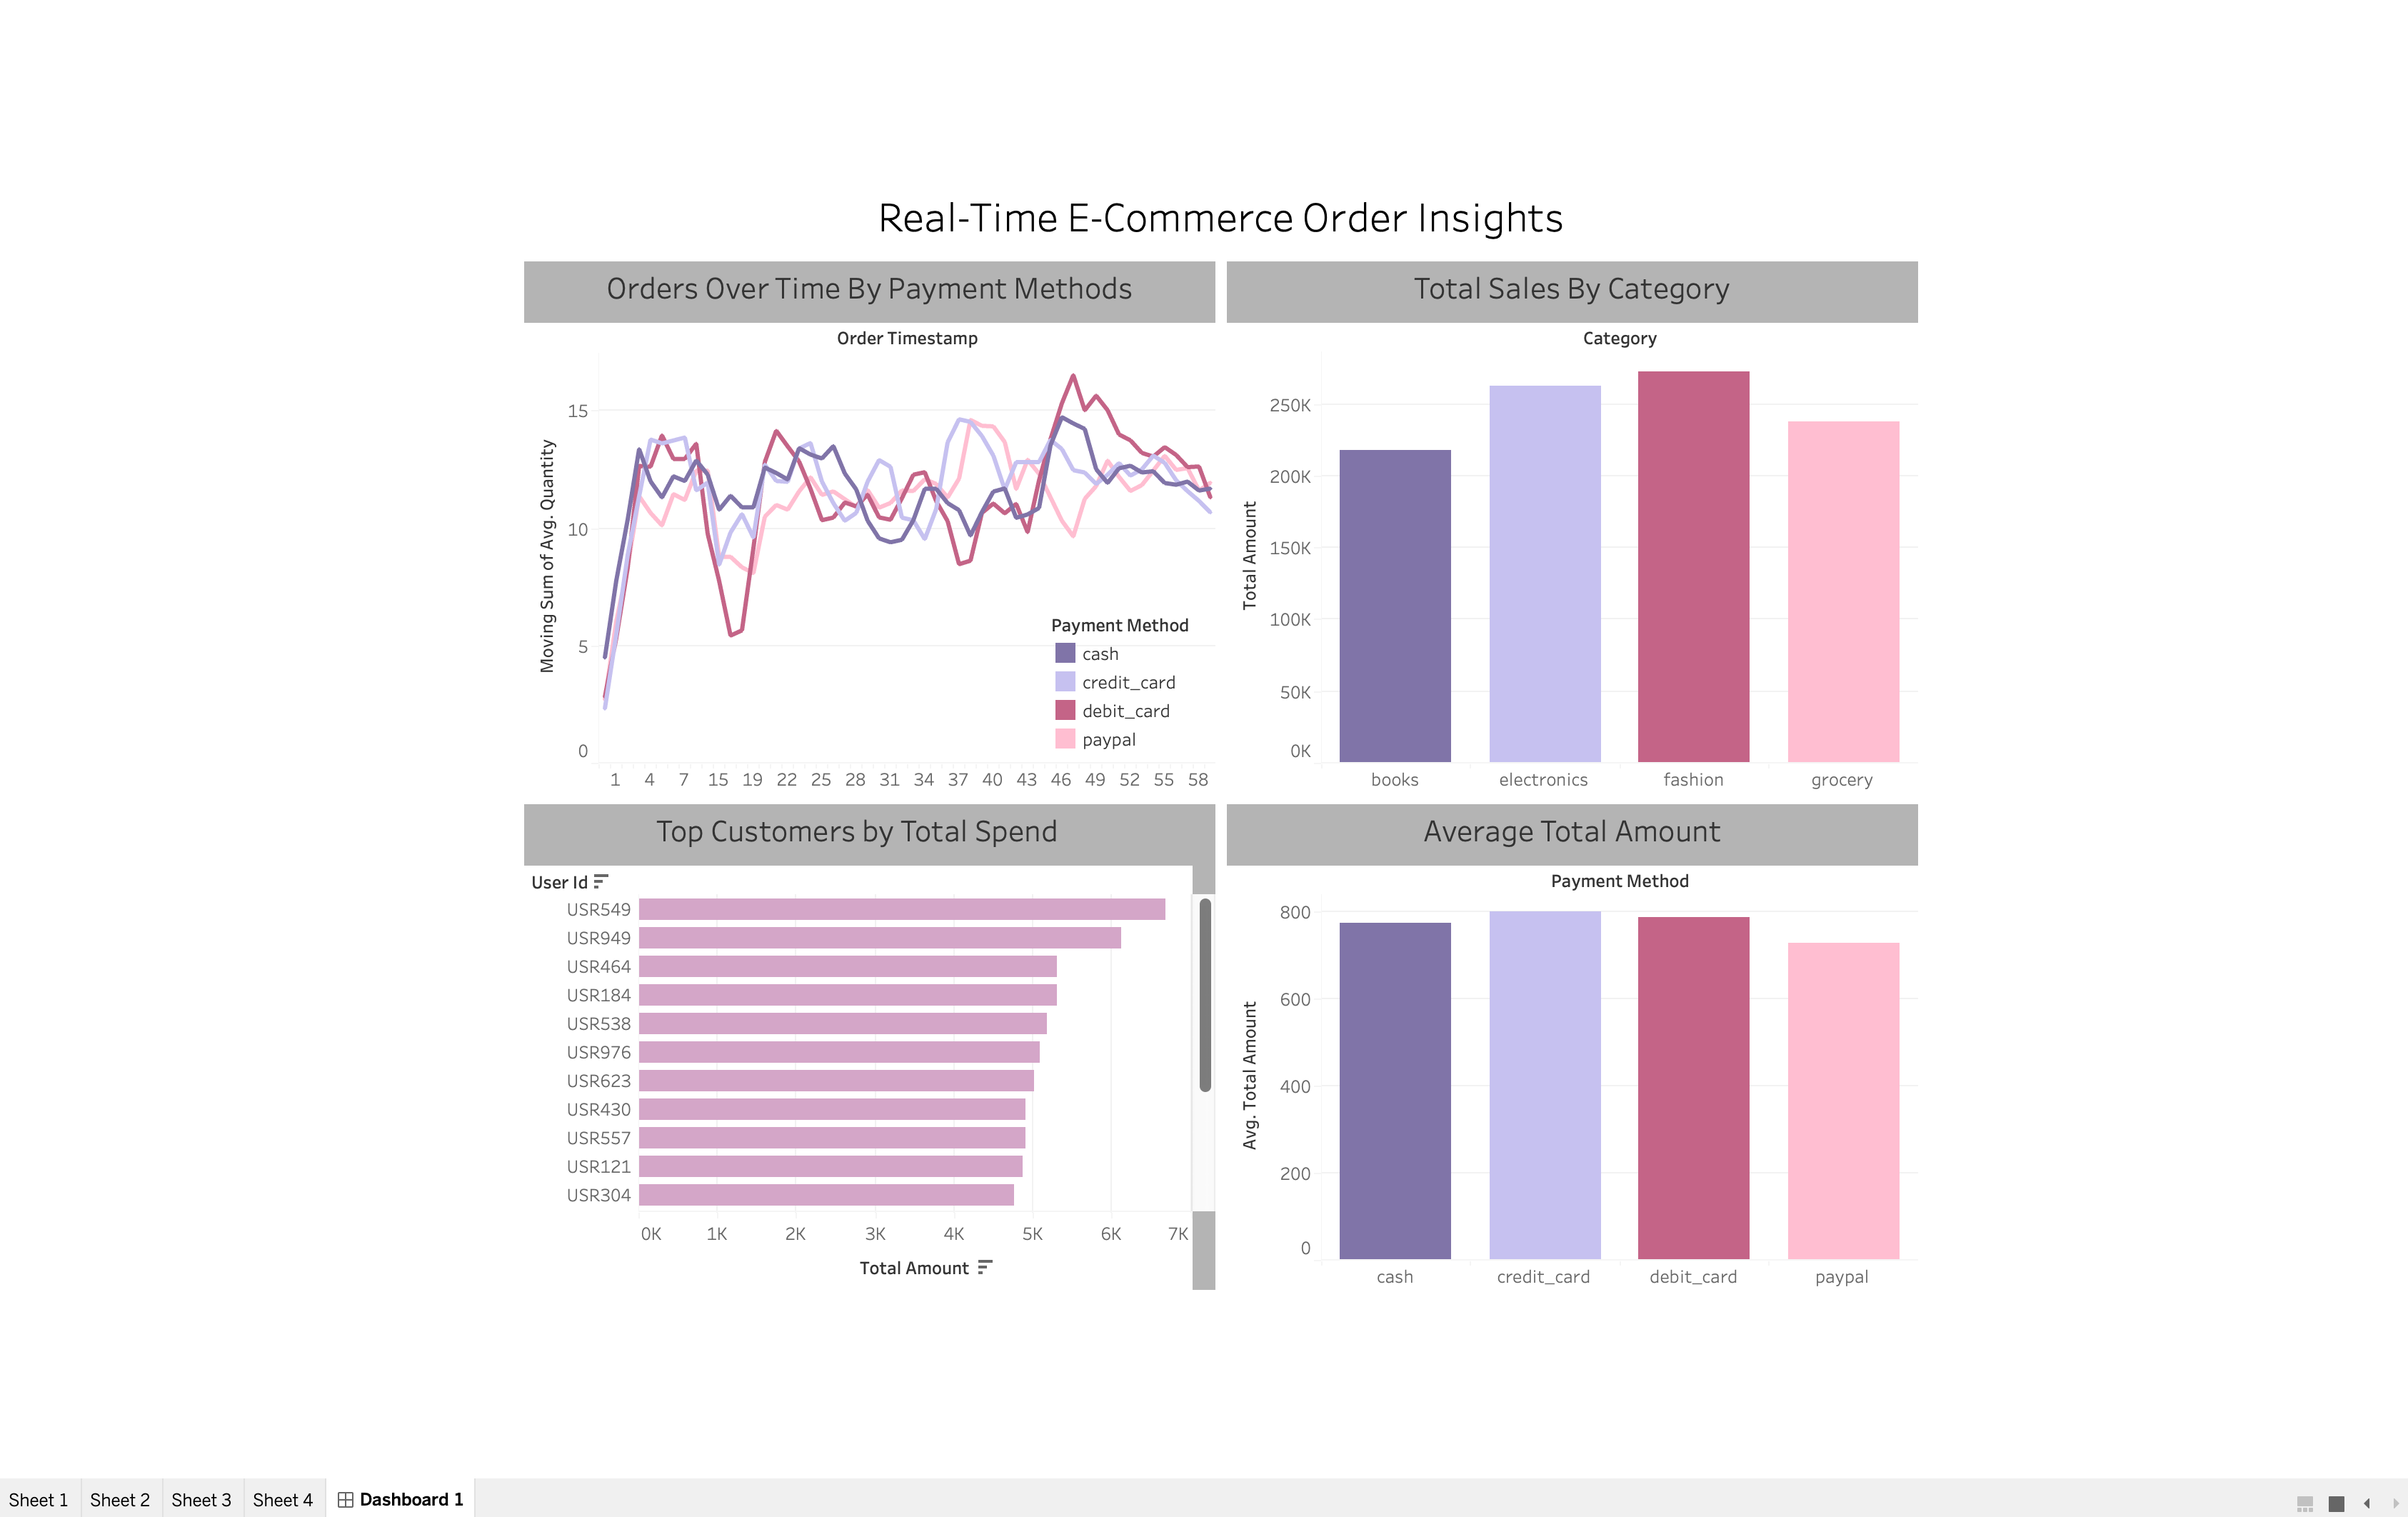

What the dashboard file says about the page in this screenshot:
{"tool":"tableau","page":{"name":"Dashboard 1","canvas":[1000,800],"ordinal":0},"visuals":[{"type":"text","box":[8,8,984,56]},{"type":"worksheet","title":"Sheet 1","mark":"Automatic","rows":["quantity"],"cols":["order_timestamp"],"box":[8,64,492,379.8]},{"type":"worksheet","title":"Sheet 2","mark":"Automatic","rows":["total_amount"],"cols":["category"],"box":[500,64,492,379.8]},{"type":"legend","title":"Sheet 1","param":"[federated.0vscvxk1f6w2za1alwnv91ezxw6m].[none:payment_method:nk]","box":[381,314,110,99]},{"type":"worksheet","title":"Sheet 4","mark":"Automatic","rows":["user_id"],"cols":["total_amount"],"box":[8,443.8,492,348.2]},{"type":"worksheet","title":"Sheet 3","mark":"Automatic","rows":["total_amount"],"cols":["payment_method"],"box":[500,443.8,492,348.2]}]}

Visuals, with their boxes on the page's 1000x800 design canvas (x1, y1, x2, y2). These are canvas units, not pixel positions in the 2408x1517 screenshot, which may show the page scaled, cropped or inside an application window:
text: region(8, 8, 992, 64)
"Sheet 1" worksheet: region(8, 64, 500, 444)
"Sheet 2" worksheet: region(500, 64, 992, 444)
"Sheet 1" legend: region(381, 314, 491, 413)
"Sheet 4" worksheet: region(8, 444, 500, 792)
"Sheet 3" worksheet: region(500, 444, 992, 792)
